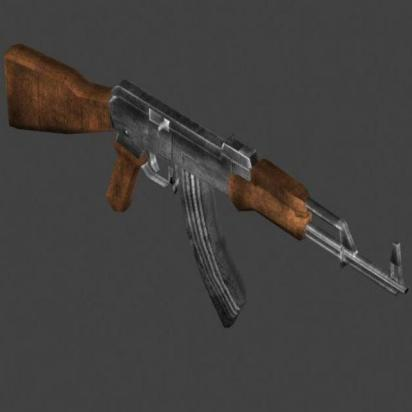Gun: (7, 34, 410, 338)
